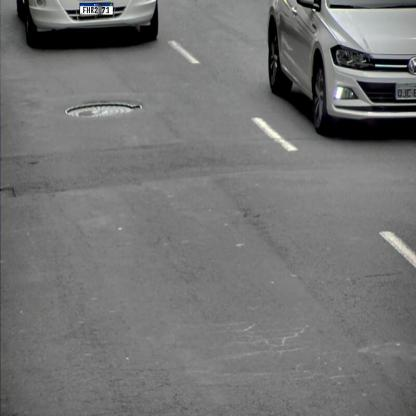PlacaM: (80, 3, 114, 15)
